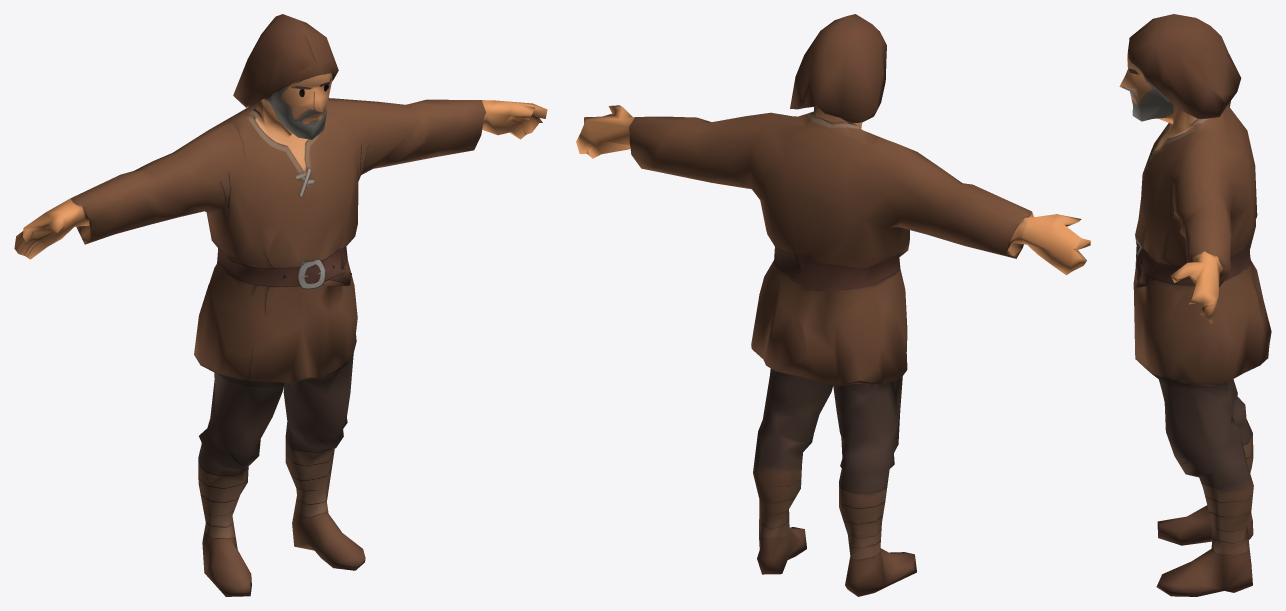
The model's file is villager.glb.
3 renders of one model, left to right at view 1: azimuth 30°, elevation 25°; view 2: azimuth 150°, elevation 25°; view 3: azimuth 270°, elevation 25°, orthographic. The views are drawn at different scales.
Parts seen in each view (by area): view 1: tripo_node_ea59447e-c038-463f-8010-d8d459368f62; view 2: tripo_node_ea59447e-c038-463f-8010-d8d459368f62; view 3: tripo_node_ea59447e-c038-463f-8010-d8d459368f62.
Part boxes in pixels (x1,y1,x2,y2): tripo_node_ea59447e-c038-463f-8010-d8d459368f62: (14,14,547,596); tripo_node_ea59447e-c038-463f-8010-d8d459368f62: (576,14,1090,596); tripo_node_ea59447e-c038-463f-8010-d8d459368f62: (1119,14,1271,596).
Bounding box in the file's own units: 0.9776 × 1 × 0.2493.
1 material, 1 textured.
